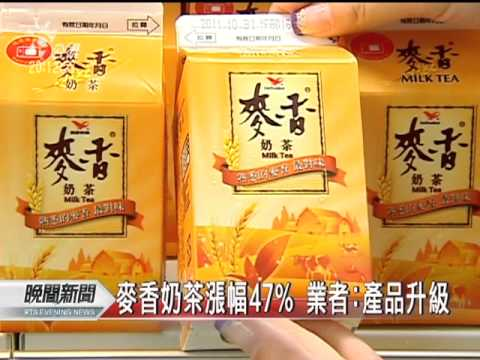milk tea: (190, 57, 370, 279), (2, 29, 161, 279), (375, 40, 476, 281)
